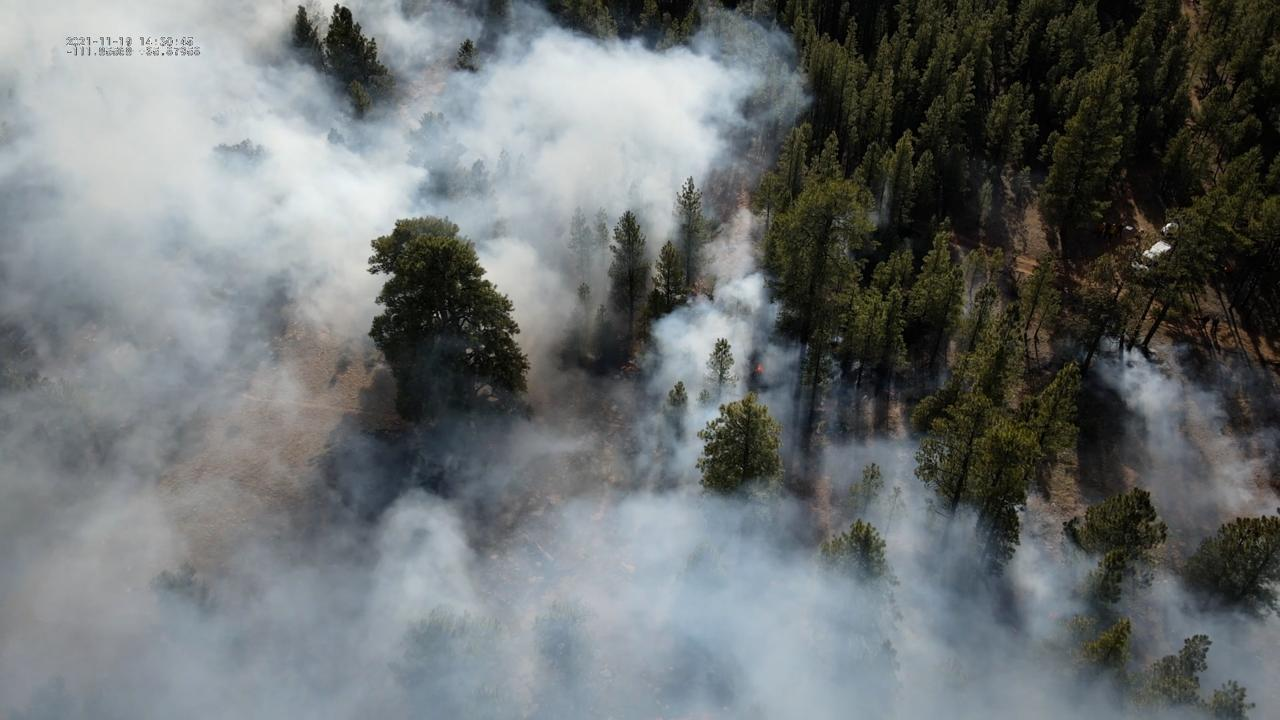fire: (753, 362, 766, 374)
smoke: (0, 0, 1280, 720)
